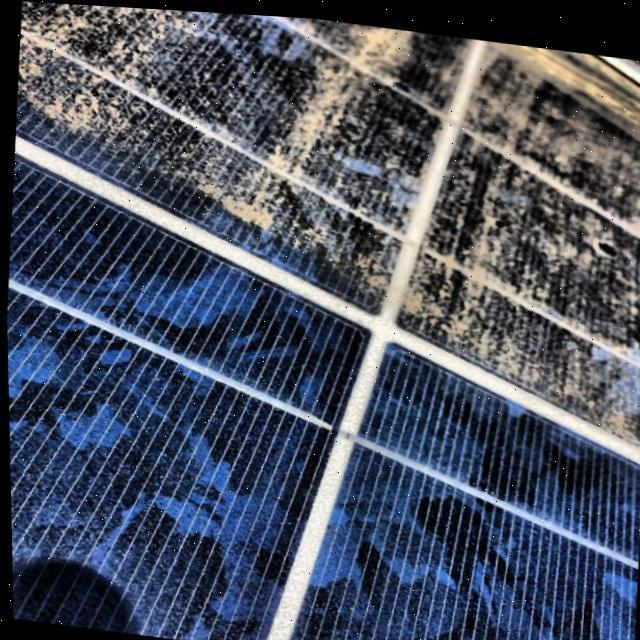Surface Contaminant: (15, 1, 477, 317), (395, 35, 640, 438)
